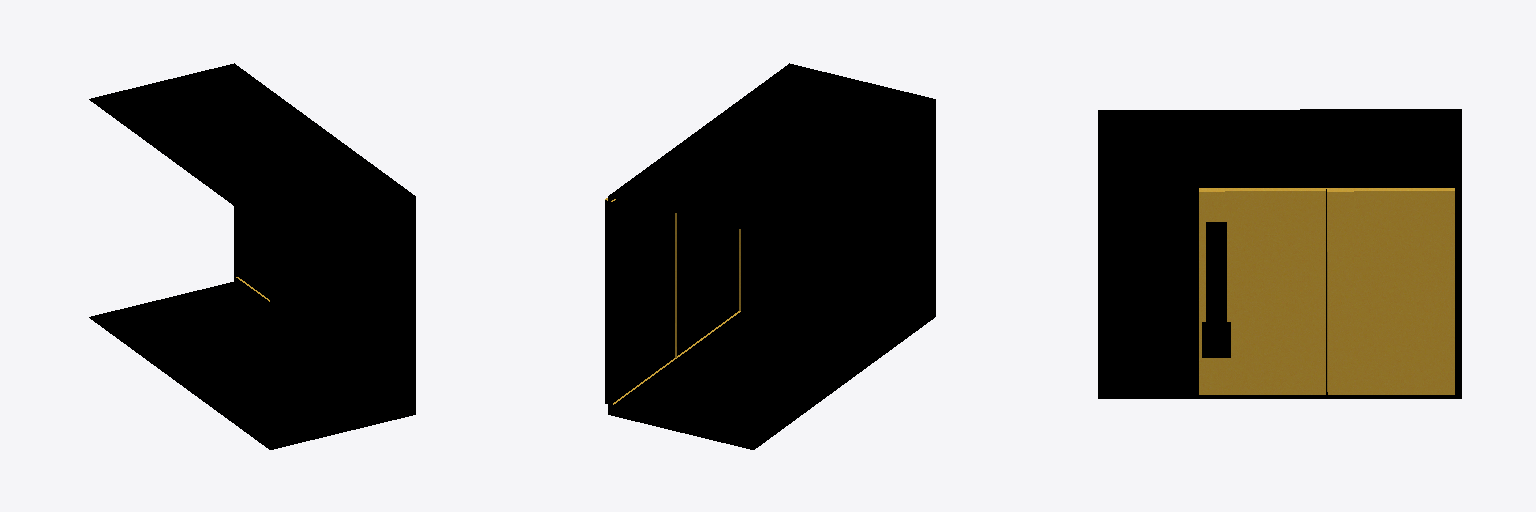
The picture shows the model from 3 angles: view 1: azimuth 30°, elevation 25°; view 2: azimuth 150°, elevation 25°; view 3: azimuth 270°, elevation 25°; orthographic projection.
Parts seen in each view (by area): view 1: metal_stainless_steel_editor; view 2: metal_stainless_steel_editor, pent_art_wall_creampaint02, nt_2020_plastic_yellow; view 3: nt_2020_plastic_yellow, metal_stainless_steel_editor, pent_art_wall_creampaint02, mtl_nt_2020_food_dispenser, mtl_nt_2020_food_disp_decals.
Part boxes in pixels (x1,y1,x2,y2): metal_stainless_steel_editor: (89,63,415,449); metal_stainless_steel_editor: (605,63,935,449); pent_art_wall_creampaint02: (744,213,780,307); nt_2020_plastic_yellow: (605,198,740,404); nt_2020_plastic_yellow: (1199,188,1454,394); metal_stainless_steel_editor: (1098,109,1461,398); pent_art_wall_creampaint02: (1105,187,1188,392); mtl_nt_2020_food_dispenser: (1123,214,1185,366); mtl_nt_2020_food_disp_decals: (1202,222,1230,357).
Size of the model in its own units: 69.34 by 94.03 by 142.
Materials: 5 (1 with a texture image).